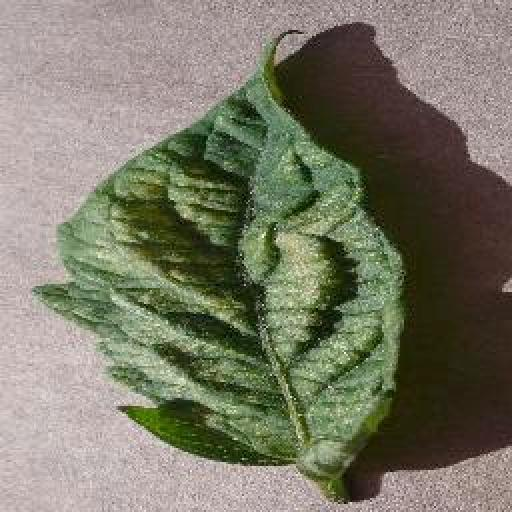disease_tomato: (34, 28, 406, 478)
